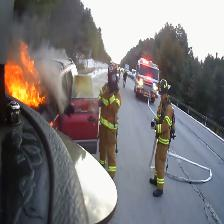fire: (0, 39, 74, 127)
nofire: (131, 48, 159, 110)
